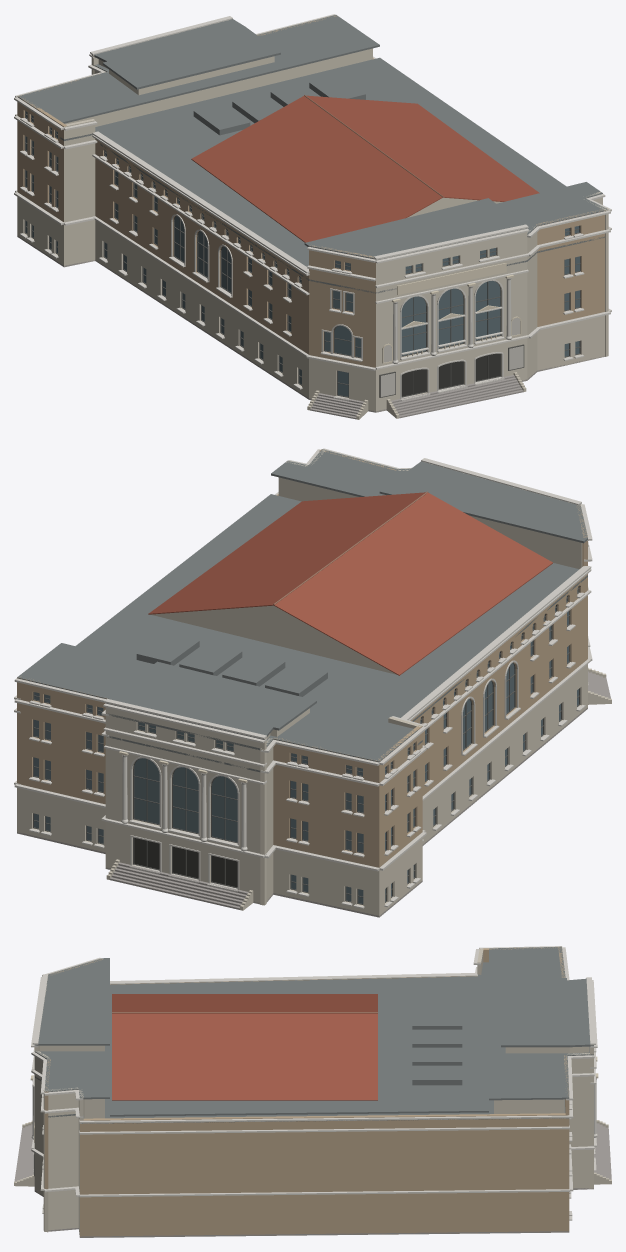
The model's file is huangpu-shanghai-concert-hall-lod.glb.
The picture shows the model from 3 angles, top to bottom: view 1: azimuth 30°, elevation 25°; view 2: azimuth 150°, elevation 25°; view 3: azimuth 270°, elevation 25°; orthographic projection. The views are drawn at different scales.
Visible parts, largest first — view 1: 迁建后的上海音乐厅（原南京大戏院）外部体量与入口; view 2: 迁建后的上海音乐厅（原南京大戏院）外部体量与入口; view 3: 迁建后的上海音乐厅（原南京大戏院）外部体量与入口.
Boxes of the visible parts, left/top/right/bottom form: 迁建后的上海音乐厅（原南京大戏院）外部体量与入口: left=14, top=14, right=611, bottom=419; 迁建后的上海音乐厅（原南京大戏院）外部体量与入口: left=14, top=448, right=611, bottom=917; 迁建后的上海音乐厅（原南京大戏院）外部体量与入口: left=14, top=946, right=611, bottom=1237.
Size of the model in its own units: 46.66 by 21.75 by 74.13.
